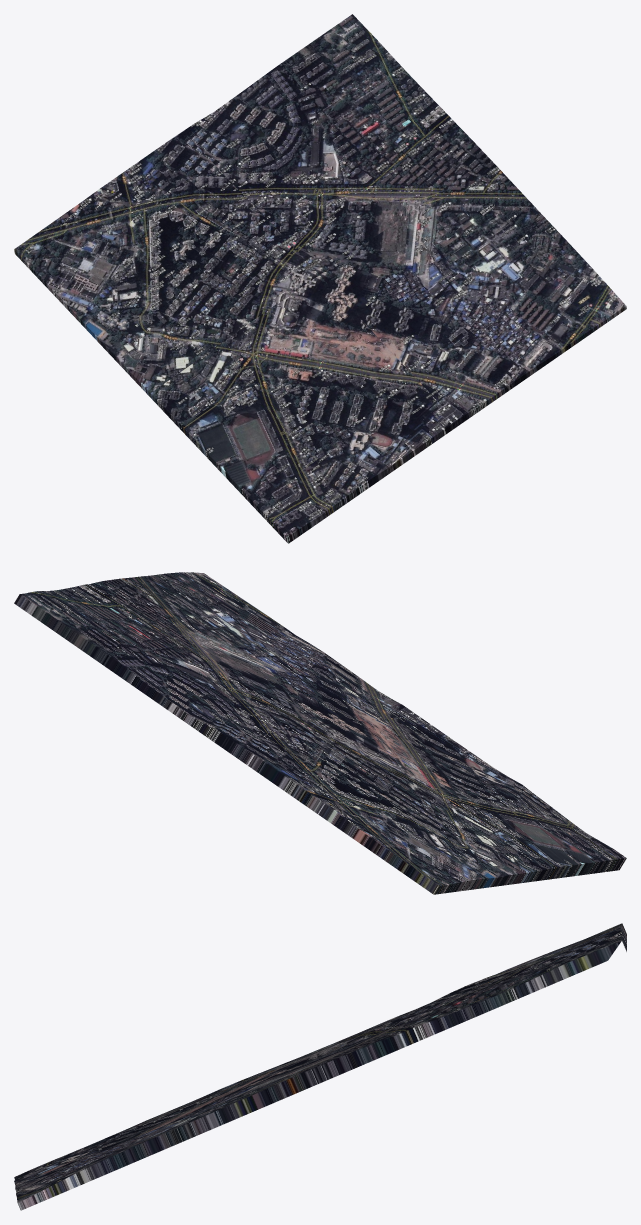
3 renders of one model, top to bottom at view 1: azimuth 30°, elevation 25°; view 2: azimuth 150°, elevation 25°; view 3: azimuth 270°, elevation 25°, orthographic. The views are drawn at different scales.
Visible parts, largest first — view 1: 1_9_6; view 2: 1_9_6; view 3: 1_9_6.
Boxes of the visible parts, x1=… form: 1_9_6: x1=14, y1=14, x2=626, y2=543; 1_9_6: x1=14, y1=572, x2=626, y2=894; 1_9_6: x1=14, y1=923, x2=626, y2=1210.
Bounding box in the file's own units: 1231 × 903 × 1132.
Materials: 1 (1 with a texture image).
